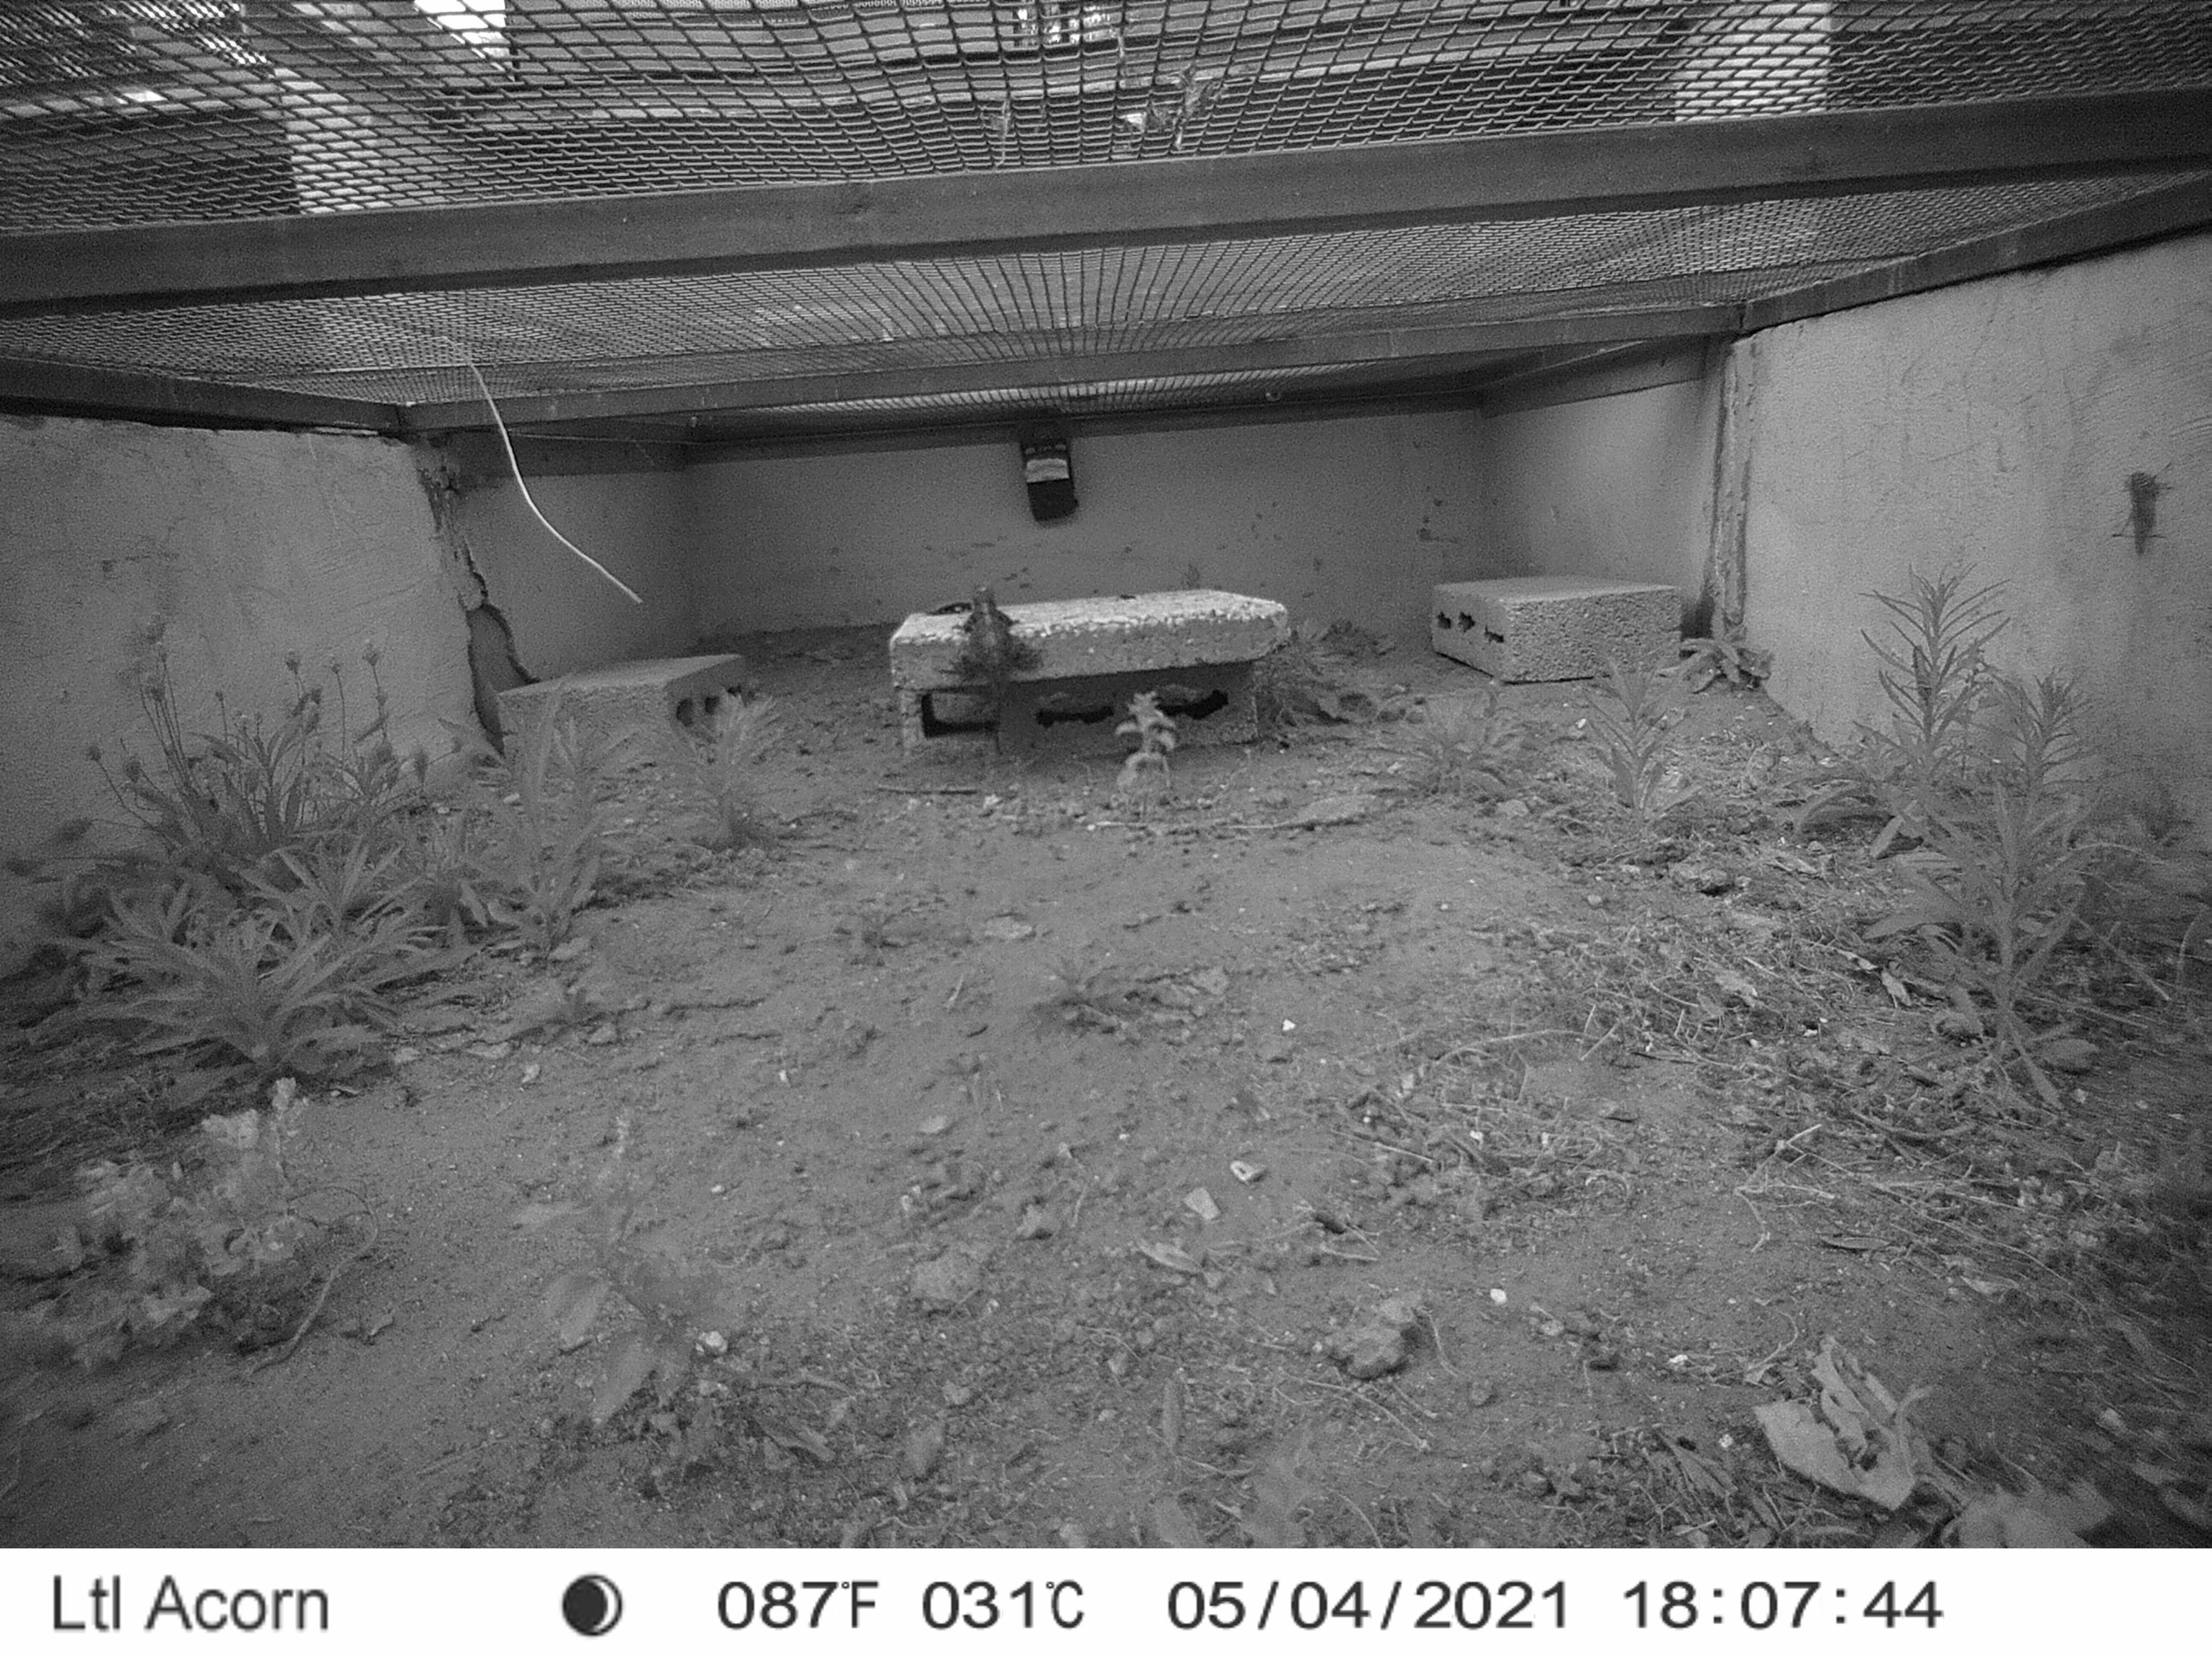lizard: (934, 584, 1049, 772)
